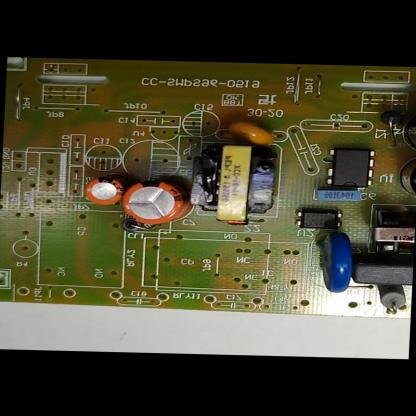Cap1: (118, 177, 194, 228)
Cap2: (80, 174, 128, 208)
Cap3: (390, 156, 416, 205)
Cap4: (394, 104, 416, 158)
MOSFET: (320, 142, 379, 194)
Mov: (311, 227, 357, 295)
Resistor: (378, 284, 410, 317)
Transformer: (182, 134, 280, 228), (360, 204, 416, 259)
